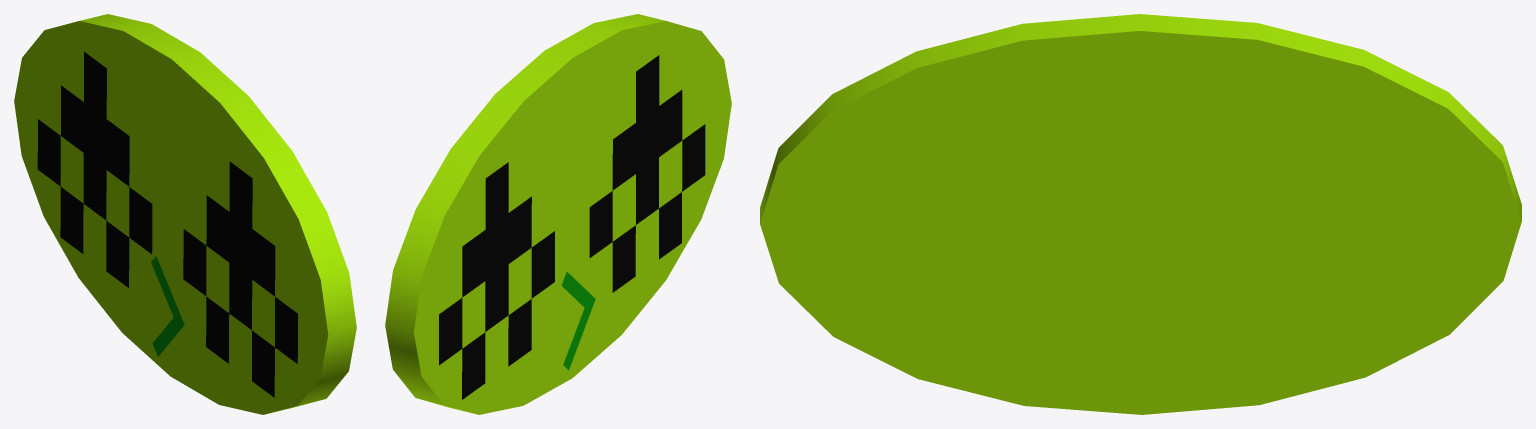
Rendered from supersizeMeObj1.fbx.
3 renders of one model, left to right at view 1: azimuth 30°, elevation 25°; view 2: azimuth 150°, elevation 25°; view 3: azimuth 270°, elevation 25°, orthographic. The views are drawn at different scales.
Parts seen in each view (by area): view 1: supersizeMeObj1; view 2: supersizeMeObj1; view 3: supersizeMeObj1.
Boxes of the visible parts, left/top/right/bottom form: supersizeMeObj1: left=14, top=14, right=356, bottom=414; supersizeMeObj1: left=385, top=14, right=731, bottom=414; supersizeMeObj1: left=760, top=14, right=1521, bottom=414.
Bounding box in the file's own units: 0.0378 × 0.3404 × 0.6115.
